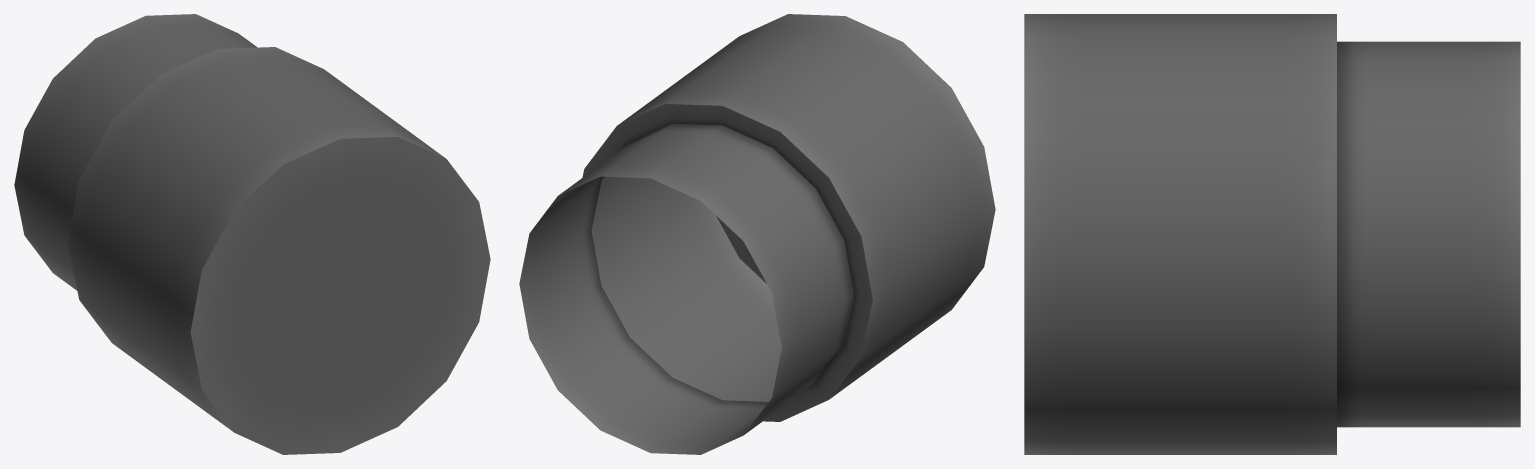
The model's file is Eridani_SolarDorsal_1_Base.obj.
The picture shows the model from 3 angles, left to right: view 1: azimuth 30°, elevation 25°; view 2: azimuth 150°, elevation 25°; view 3: azimuth 270°, elevation 25°; orthographic projection. The views are drawn at different scales.
Visible parts, largest first — view 1: Eridani_SolarDorsal_1_Base; view 2: Eridani_SolarDorsal_1_Base; view 3: Eridani_SolarDorsal_1_Base.
Boxes of the visible parts, x1,y1,x2,y2 form: Eridani_SolarDorsal_1_Base: (14, 14, 490, 454); Eridani_SolarDorsal_1_Base: (519, 14, 995, 454); Eridani_SolarDorsal_1_Base: (1024, 14, 1520, 454).
Size of the model in its own units: 0.12 by 0.12 by 0.135.
